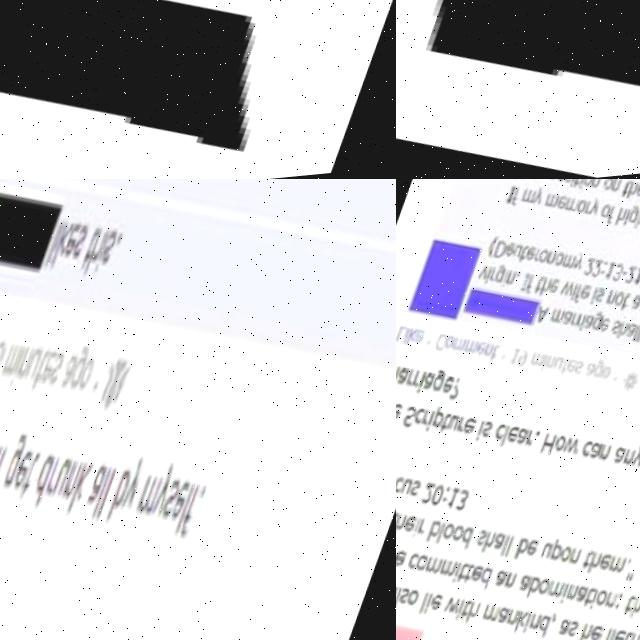0: (435, 483, 452, 509)
1: (453, 488, 467, 512), (512, 349, 524, 369), (608, 265, 619, 284), (635, 271, 640, 289)
2: (426, 482, 443, 507), (592, 263, 605, 283), (586, 260, 598, 281), (627, 269, 639, 290)
3: (460, 489, 478, 514), (613, 266, 629, 288)
6: (0, 341, 12, 389)
9: (519, 350, 535, 372)
A: (503, 607, 520, 628), (617, 449, 633, 471), (564, 619, 580, 640), (520, 428, 536, 449), (593, 444, 609, 465), (399, 365, 415, 386), (537, 306, 553, 327), (500, 571, 516, 590), (498, 534, 514, 553), (525, 576, 540, 595), (582, 587, 597, 606), (563, 311, 578, 330), (585, 316, 600, 335), (425, 372, 439, 392), (588, 363, 602, 382), (627, 326, 640, 343), (396, 582, 406, 604), (632, 299, 640, 316)
B: (533, 579, 550, 604), (432, 520, 449, 545), (519, 540, 536, 565)
C: (436, 332, 452, 354), (396, 475, 411, 496), (415, 406, 430, 427), (585, 442, 600, 463), (498, 425, 513, 444), (413, 553, 427, 570)
D: (484, 568, 501, 593), (465, 527, 482, 552), (543, 616, 560, 640), (494, 240, 510, 262)
E: (408, 513, 425, 535), (444, 374, 460, 396), (531, 540, 547, 561), (466, 417, 482, 438), (510, 426, 526, 447), (606, 556, 621, 577), (436, 594, 451, 613), (477, 566, 492, 585), (505, 242, 519, 261), (396, 400, 408, 421), (400, 550, 414, 567), (416, 326, 430, 343), (477, 341, 491, 358), (568, 360, 582, 377), (550, 281, 564, 298), (580, 287, 594, 304), (526, 247, 540, 264), (597, 627, 612, 640), (557, 198, 568, 214), (603, 321, 614, 337), (620, 632, 636, 640), (635, 184, 640, 201)
F: (510, 188, 523, 209), (607, 209, 619, 230), (527, 278, 539, 298), (575, 288, 587, 308)
G: (434, 369, 451, 394), (593, 314, 609, 335), (495, 265, 510, 286), (626, 208, 640, 229), (596, 363, 609, 383)
H: (544, 434, 564, 460), (473, 601, 490, 626), (397, 512, 414, 537), (488, 532, 505, 557), (594, 555, 611, 580), (627, 185, 639, 206), (586, 625, 602, 640), (542, 280, 554, 300), (616, 211, 628, 231), (620, 325, 632, 344), (635, 215, 640, 236), (636, 601, 640, 626)
I: (430, 592, 442, 615), (596, 591, 608, 614), (417, 517, 429, 540), (429, 410, 441, 433), (521, 274, 534, 295), (462, 600, 473, 623), (458, 563, 469, 586), (566, 586, 577, 609), (479, 421, 490, 444), (419, 371, 430, 394), (506, 187, 518, 208), (530, 614, 541, 636), (572, 287, 583, 306), (581, 317, 592, 335), (502, 271, 512, 290), (592, 291, 602, 310), (484, 269, 494, 287), (623, 214, 633, 231), (396, 474, 402, 498), (544, 357, 553, 373), (578, 179, 588, 193), (405, 326, 412, 345), (570, 179, 579, 190), (616, 634, 625, 640)
K: (521, 612, 537, 637), (409, 327, 421, 346)
L: (510, 537, 522, 560), (400, 586, 411, 609), (427, 592, 438, 615), (506, 536, 517, 559), (504, 427, 515, 450), (442, 523, 453, 545), (398, 324, 410, 344), (634, 327, 640, 347), (611, 631, 621, 640)
M: (489, 604, 510, 626), (614, 558, 635, 580), (431, 557, 451, 576), (446, 559, 466, 578), (554, 583, 574, 602), (533, 352, 550, 370), (520, 191, 538, 208), (552, 309, 568, 328), (468, 337, 484, 355), (563, 256, 579, 274), (545, 195, 561, 213), (565, 200, 581, 218), (455, 337, 471, 353), (396, 362, 405, 383)
N: (603, 447, 618, 466), (514, 611, 528, 630), (536, 615, 550, 634), (576, 551, 590, 570), (626, 452, 640, 471), (511, 574, 525, 591), (573, 587, 587, 604), (612, 596, 626, 613), (549, 357, 560, 373), (507, 274, 518, 290), (608, 294, 619, 310), (548, 252, 559, 268), (612, 181, 623, 197), (591, 179, 602, 191), (487, 345, 497, 358)
O: (413, 588, 429, 609), (558, 437, 573, 457), (447, 524, 462, 543), (458, 525, 473, 544), (565, 548, 580, 567), (575, 202, 590, 219), (422, 554, 436, 571), (545, 581, 559, 598), (603, 593, 617, 610), (604, 368, 618, 385), (615, 294, 629, 311), (539, 250, 553, 267), (554, 253, 568, 270), (600, 207, 614, 224), (602, 179, 616, 196), (582, 179, 596, 192), (447, 335, 458, 351), (557, 179, 568, 184)
P: (556, 540, 573, 566), (435, 407, 451, 429), (548, 179, 561, 183)
R: (461, 416, 473, 436), (415, 369, 427, 387), (426, 409, 437, 427), (530, 432, 541, 450), (410, 368, 421, 386), (423, 518, 434, 535), (572, 315, 583, 331), (577, 315, 588, 331), (491, 268, 502, 284), (534, 249, 545, 265), (583, 205, 594, 220)
S: (405, 405, 423, 430), (481, 529, 496, 550), (405, 587, 419, 606), (414, 480, 428, 499), (485, 422, 499, 441), (574, 623, 588, 640), (577, 363, 588, 379), (598, 292, 609, 308), (614, 324, 625, 339), (564, 179, 575, 185)
T: (0, 0, 396, 179), (469, 563, 483, 587), (588, 553, 602, 577), (467, 600, 480, 624), (463, 563, 475, 584), (591, 591, 603, 612), (444, 414, 456, 434), (562, 360, 574, 380), (621, 183, 633, 203), (493, 345, 505, 364), (536, 279, 548, 298), (631, 597, 640, 621), (520, 247, 531, 265), (623, 298, 634, 315), (396, 512, 404, 533), (572, 179, 584, 192), (628, 634, 640, 640)
U: (546, 544, 561, 563), (405, 477, 420, 496), (451, 414, 466, 433), (513, 243, 527, 262), (558, 358, 568, 372)
V: (480, 266, 491, 282), (396, 547, 404, 564)
W: (449, 595, 470, 619), (566, 438, 587, 460), (561, 283, 577, 301)
Y: (573, 254, 589, 275), (588, 201, 603, 222), (535, 191, 546, 209), (635, 447, 640, 473)
Z: (396, 0, 640, 161)
